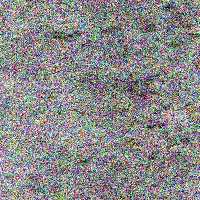rolled-in_scale: (121, 45, 195, 183), (38, 16, 137, 56), (141, 1, 199, 56)
